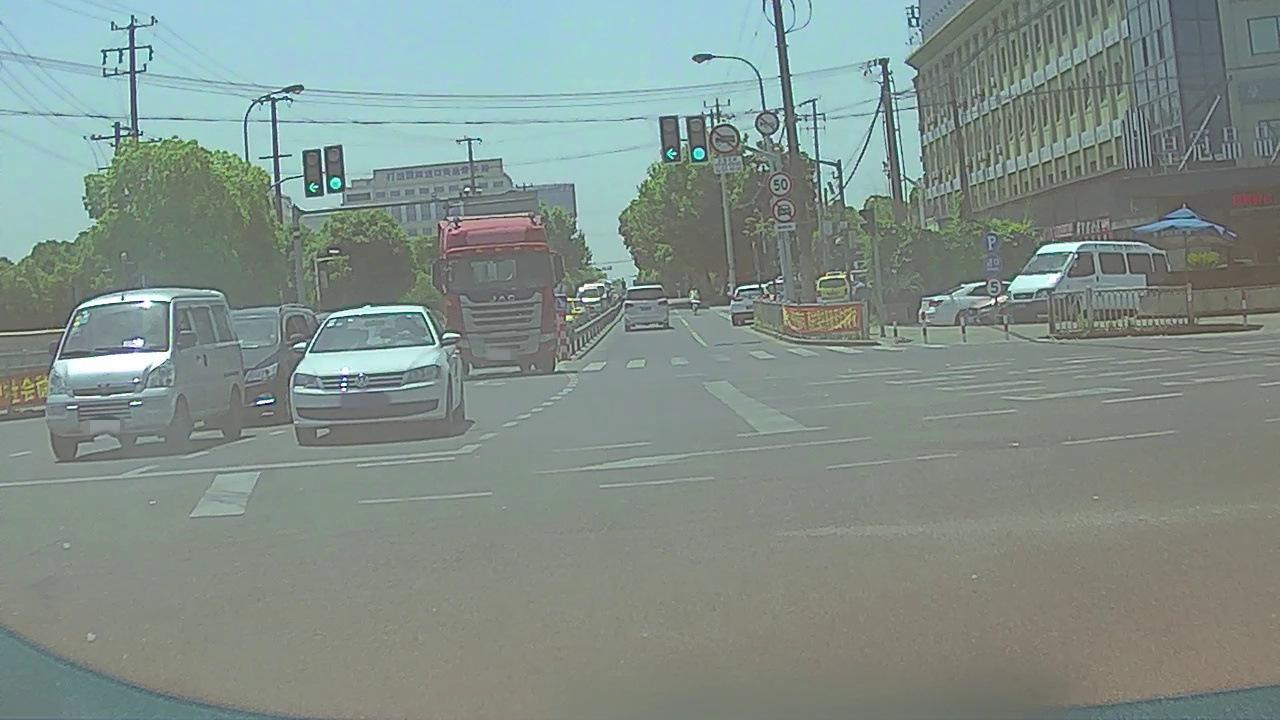traffic_light: (303, 150, 324, 197), (689, 116, 709, 164), (324, 145, 344, 192), (662, 118, 680, 163)
